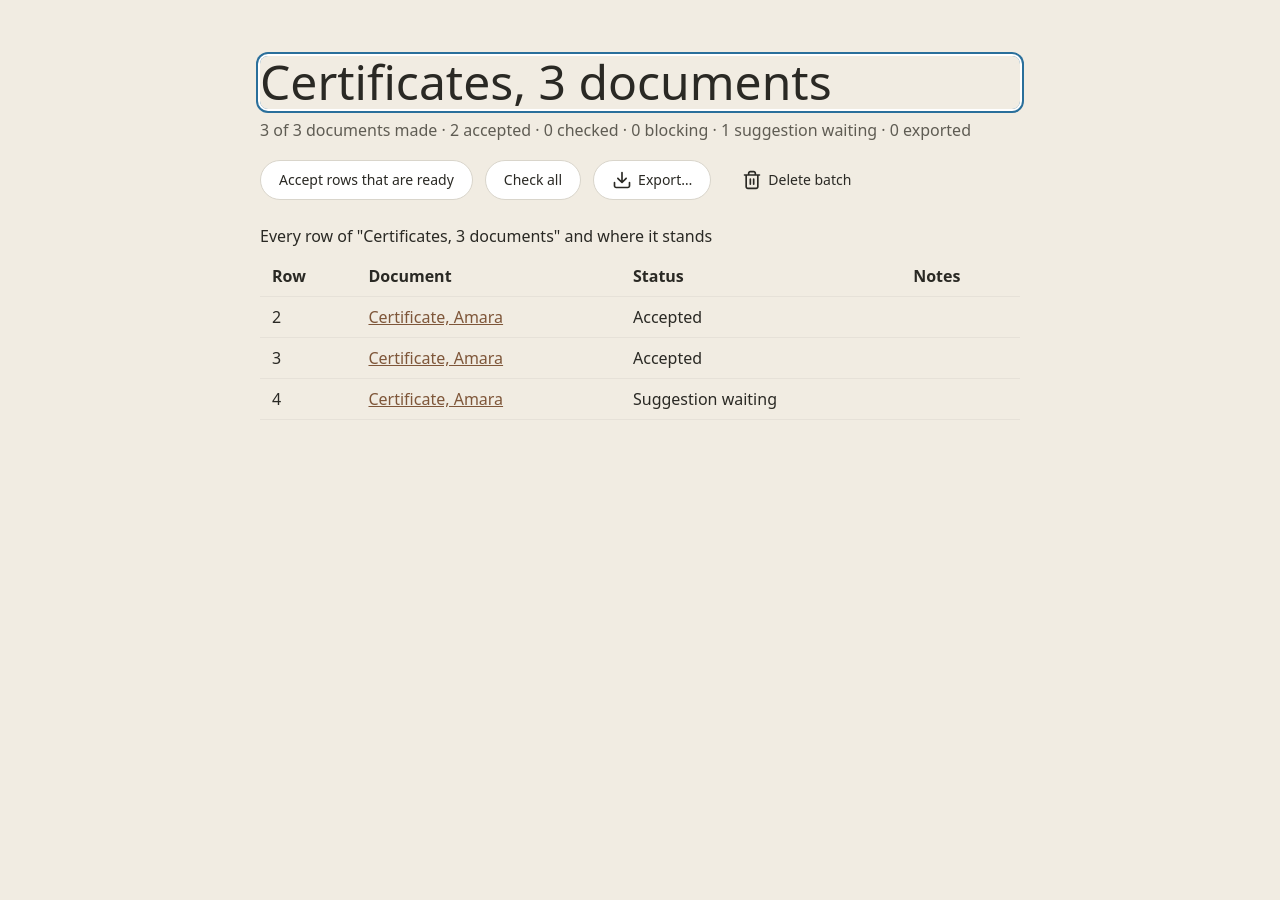
Scenario: BatchView › exports through the dialog and offers the ZIP for download with the left-out rows listed
Click the button "Export…" at (652, 180), box [593,160,711,200]
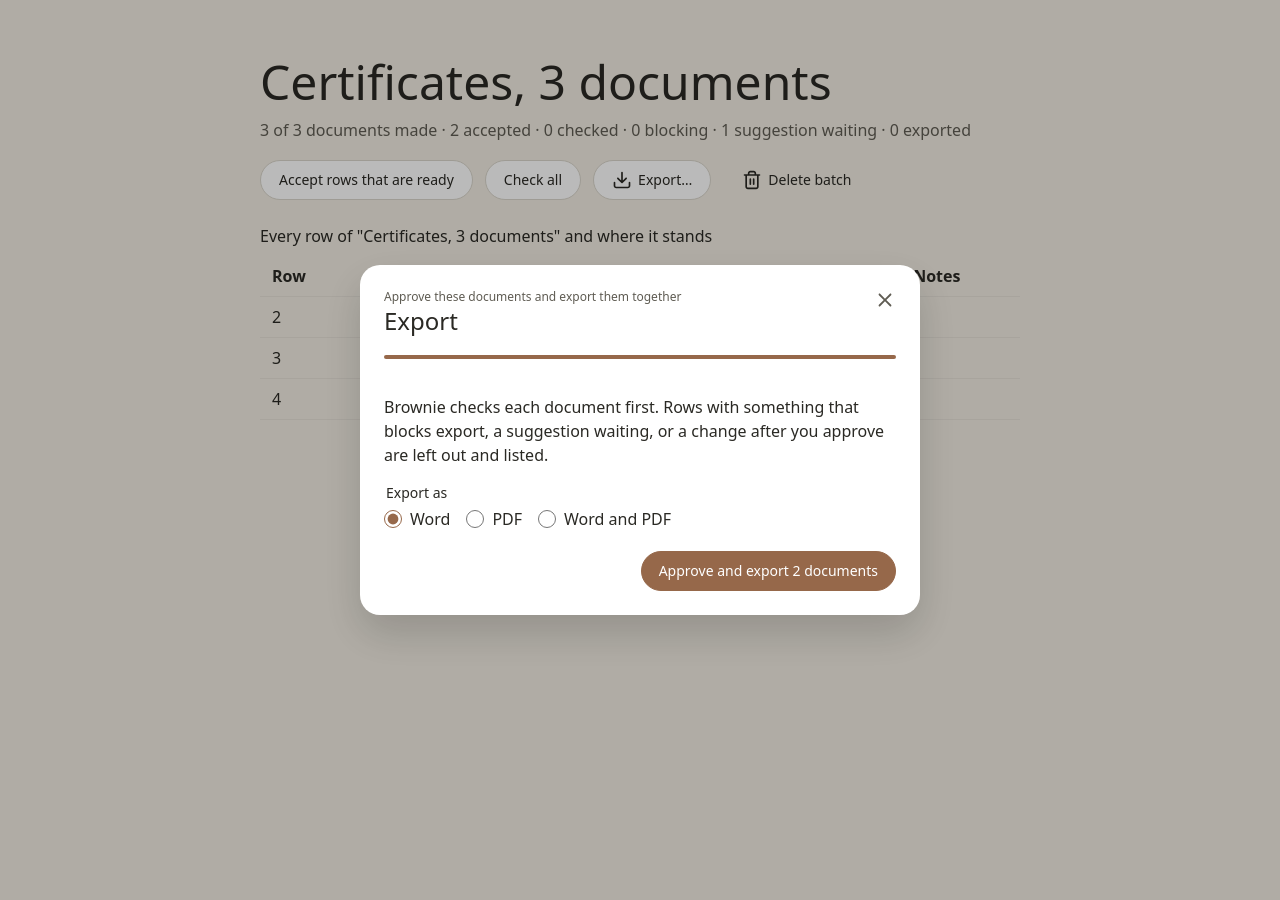
Expected: the dialog shows "Brownie checks each document first", [384,396,884,466]
Expected: the dialog shows "Approve and export 2 documents"
Click the button "Approve and export 2 documents" at (768, 571), box [641,551,896,591]
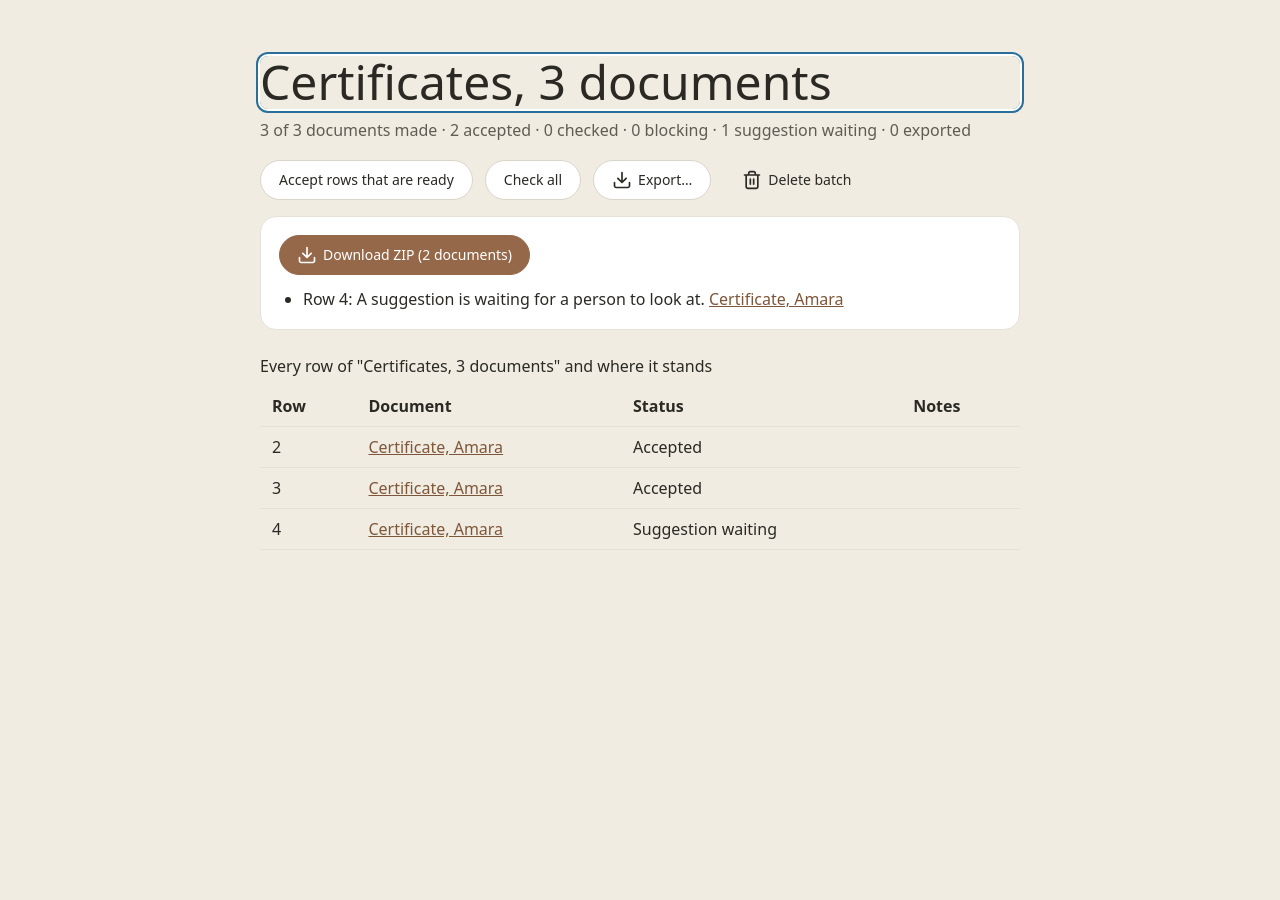
Expected: the link "Download ZIP (2 documents)" is shown, [279,235,530,275]
Expected: the text "Row 4" is shown, [303,288,709,310]
Expected: the text "suggestion is waiting" is shown, [303,288,709,310]
